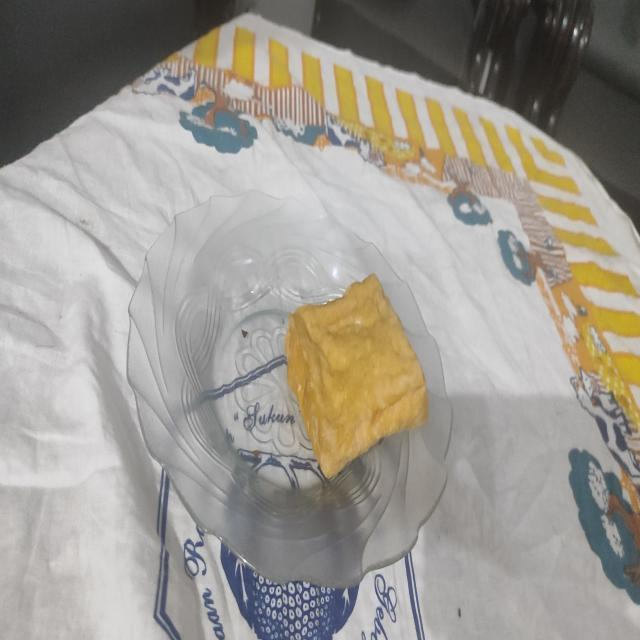tahu_goreng: (285, 274, 428, 477)
